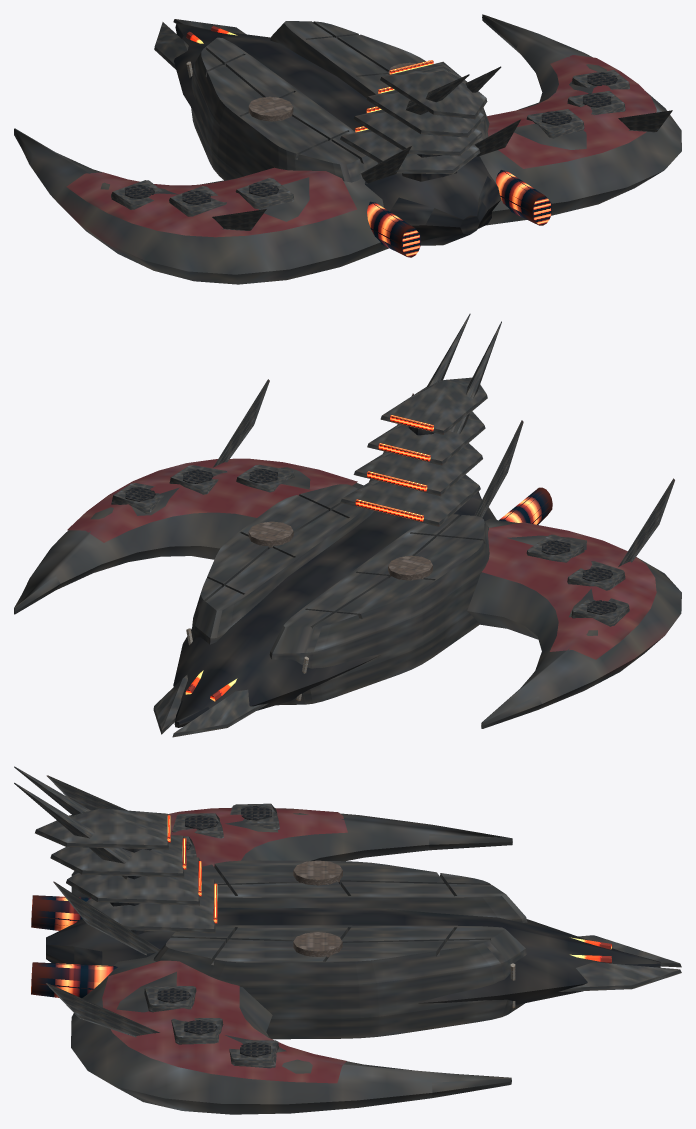
File: dynasty_battleship_recreated_lod2.glb
3 renders of one model, top to bottom at view 1: azimuth 30°, elevation 25°; view 2: azimuth 150°, elevation 25°; view 3: azimuth 270°, elevation 25°, orthographic. The views are drawn at different scales.
Visible parts, largest first — view 1: dynasty_battleship_far_source; view 2: dynasty_battleship_far_source; view 3: dynasty_battleship_far_source.
Part boxes in pixels (x1,y1,x2,y2): dynasty_battleship_far_source: (14,14,681,284); dynasty_battleship_far_source: (14,313,681,737); dynasty_battleship_far_source: (14,766,681,1114).
Size of the model in its own units: 3.79 by 1.39 by 3.74.
Materials: 1 (1 with a texture image).
